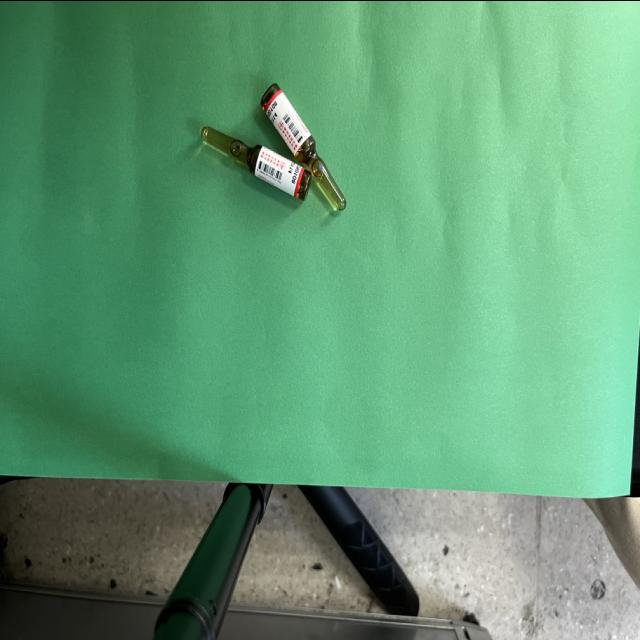Ampoules: (260, 82, 346, 209), (201, 125, 311, 199)
